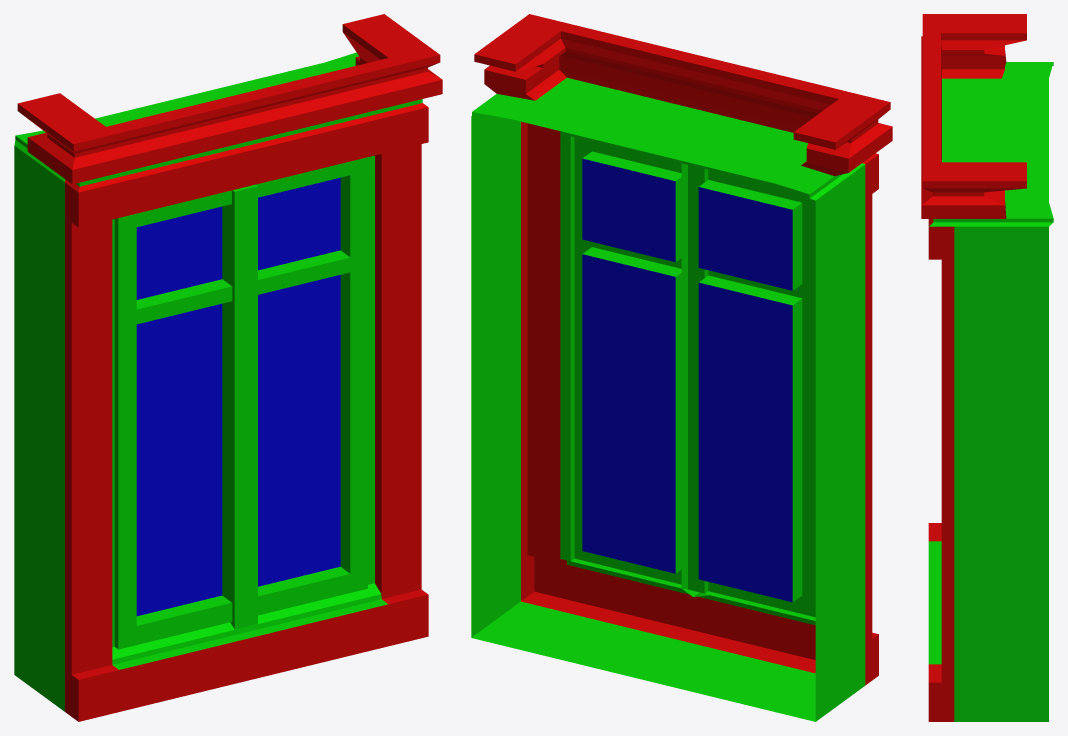
File: Window01_Nice.fbx
3 renders of one model, left to right at view 1: azimuth 30°, elevation 25°; view 2: azimuth 150°, elevation 25°; view 3: azimuth 270°, elevation 25°, orthographic. The views are drawn at different scales.
Visible parts, largest first — view 1: Window001; view 2: Window001; view 3: Window001.
Part boxes in pixels (x1,y1,x2,y2): Window001: [14, 14, 442, 721]; Window001: [471, 14, 892, 721]; Window001: [921, 14, 1053, 721].
Bounding box in the file's own units: 106 × 159 × 34.99.
